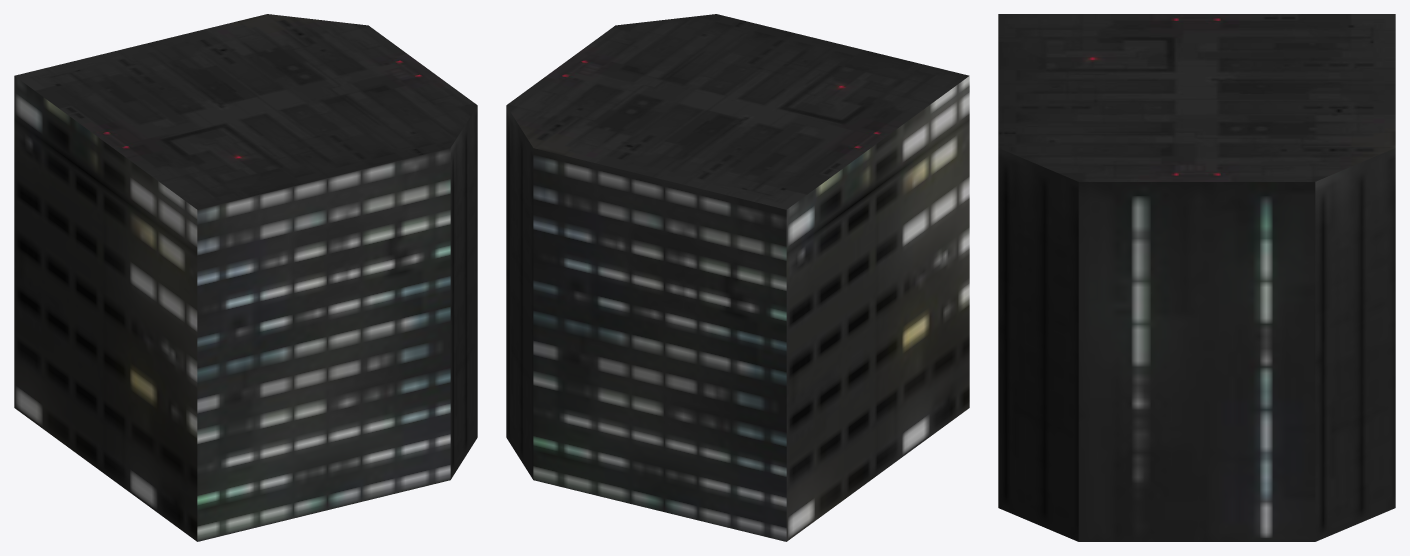
The model's file is scifi_building_9.obj.
The picture shows the model from 3 angles, left to right: view 1: azimuth 30°, elevation 25°; view 2: azimuth 150°, elevation 25°; view 3: azimuth 270°, elevation 25°; orthographic projection. The views are drawn at different scales.
Visible parts, largest first — view 1: building_9; view 2: building_9; view 3: building_9.
Boxes of the visible parts, x1,y1,x2,y2 form: building_9: [14, 14, 477, 541]; building_9: [506, 14, 969, 541]; building_9: [998, 14, 1395, 541].
Size of the model in its own units: 46.76 by 46.79 by 46.76.
1 material, 1 textured.
